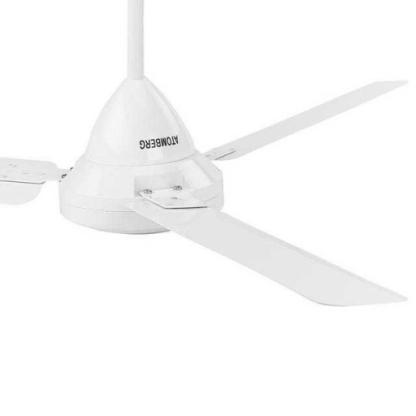ceiling-fan: (0, 0, 410, 306)
